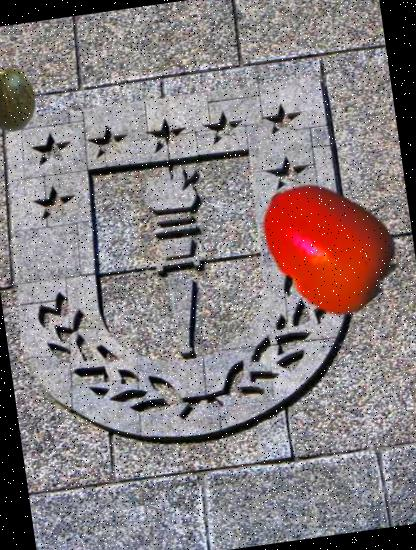Kaki: (248, 162, 410, 325)
Melon: (0, 65, 44, 135)
